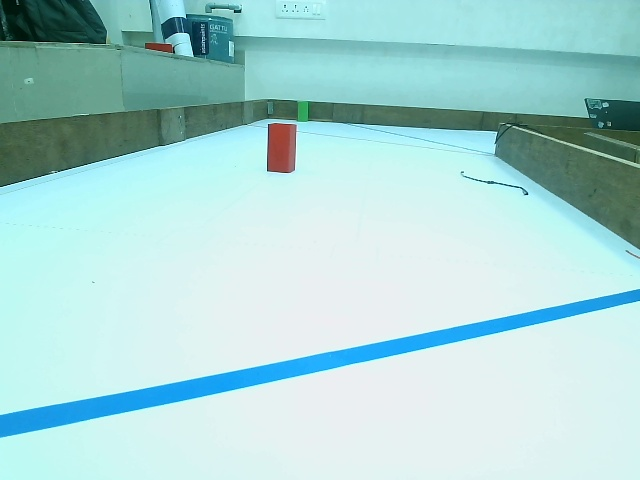red: (268, 126, 295, 174)
